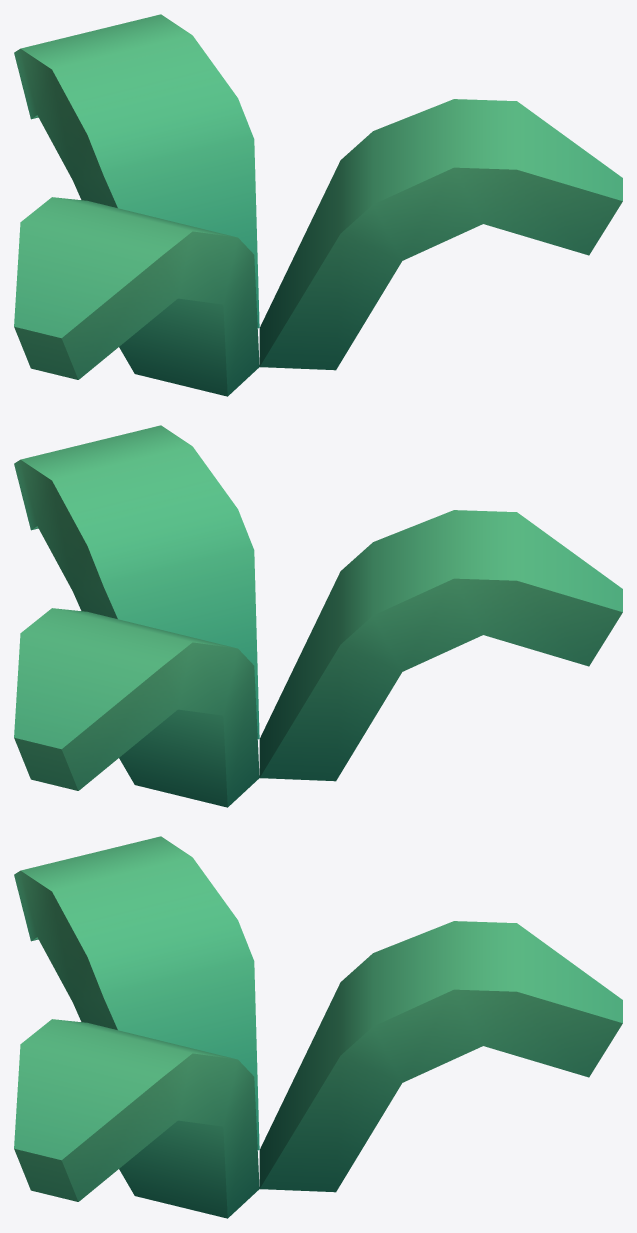
Rendered from plant.glb.
3 renders of one model, top to bottom at view 1: azimuth 30°, elevation 25°; view 2: azimuth 150°, elevation 25°; view 3: azimuth 270°, elevation 25°, orthographic.
Parts seen in each view (by area): view 1: plant; view 2: plant; view 3: plant.
Boxes of the visible parts, box(x1,y1,x2,y2) form: plant: box(14, 14, 622, 396); plant: box(14, 425, 622, 807); plant: box(14, 836, 622, 1218).
Bounding box in the file's own units: 0.5112 × 0.1718 × 0.4427.
1 material, 1 textured.
